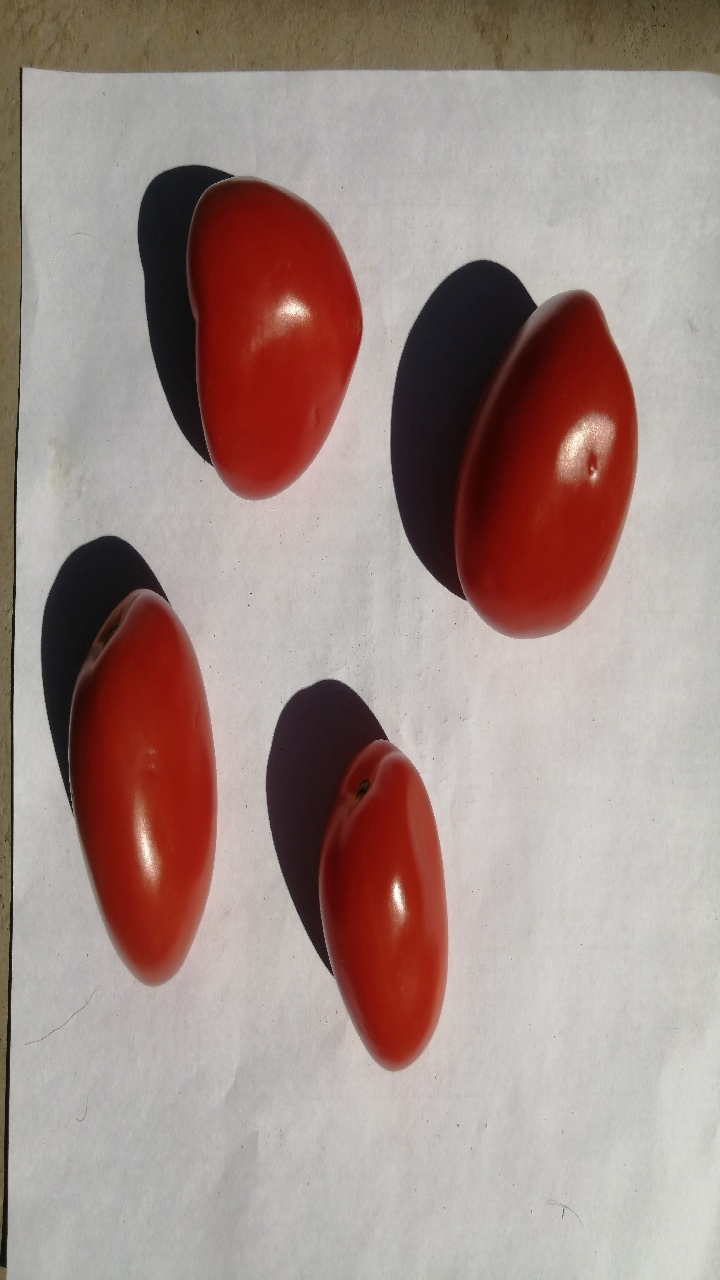tomateRojo: (428, 257, 664, 654), (40, 571, 252, 1005), (152, 148, 388, 526), (291, 723, 471, 1094)
